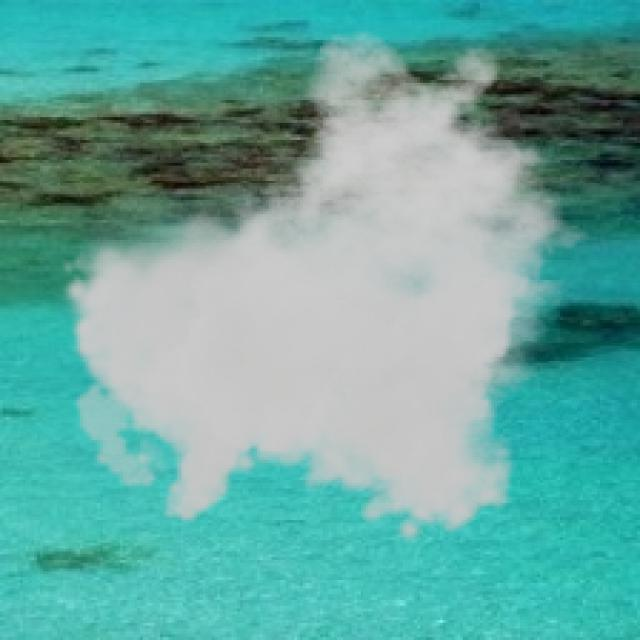Smoke: (60, 28, 609, 546)
